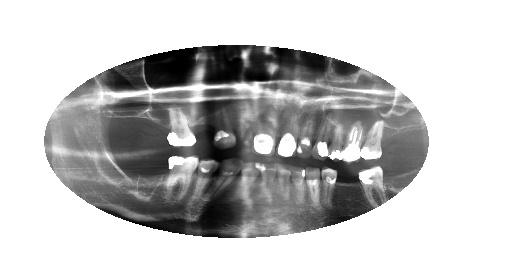Fillings: (166, 156, 198, 203), (167, 106, 196, 147), (358, 166, 386, 208), (253, 113, 276, 156), (361, 119, 383, 160), (315, 115, 331, 162), (277, 125, 297, 158), (331, 122, 341, 162)
Implant: (341, 121, 365, 162)
